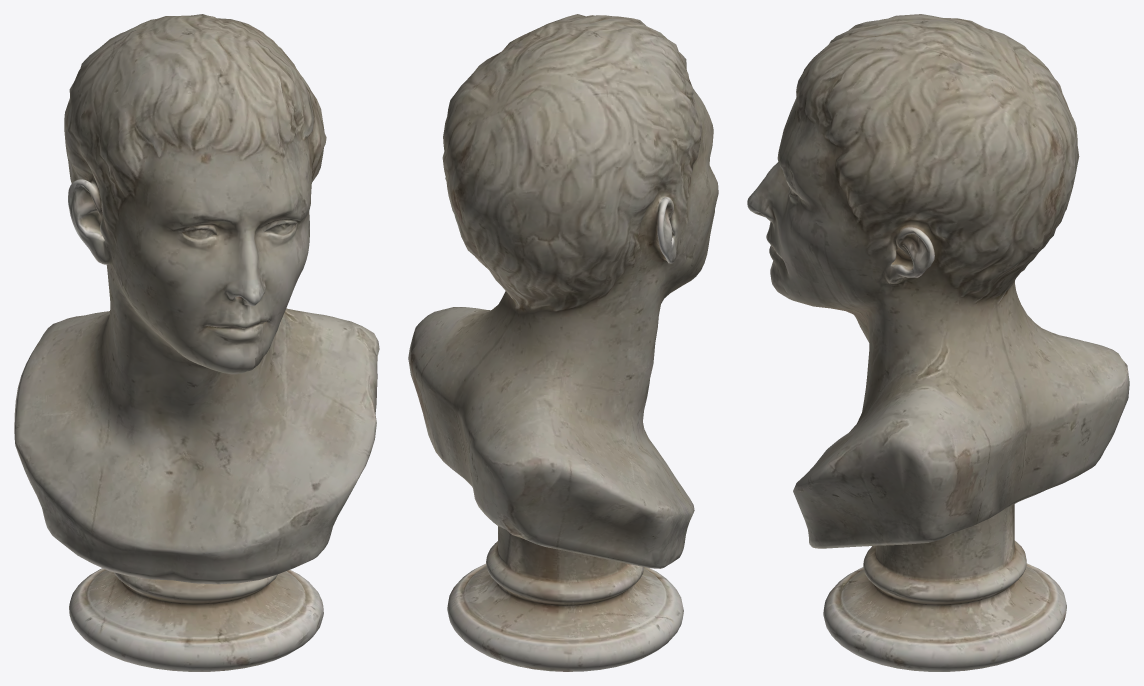
The model's file is marble_bust_01.glb.
3 renders of one model, left to right at view 1: azimuth 30°, elevation 25°; view 2: azimuth 150°, elevation 25°; view 3: azimuth 270°, elevation 25°, orthographic. The views are drawn at different scales.
Visible parts, largest first — view 1: marble_bust_01; view 2: marble_bust_01; view 3: marble_bust_01.
Part boxes in pixels (box(x1,y1,x2,y2)): marble_bust_01: box(14, 14, 379, 671); marble_bust_01: box(408, 14, 718, 671); marble_bust_01: box(747, 14, 1129, 671).
Bounding box in the file's own units: 0.2718 × 0.5148 × 0.2997.
1 material, 1 textured.
